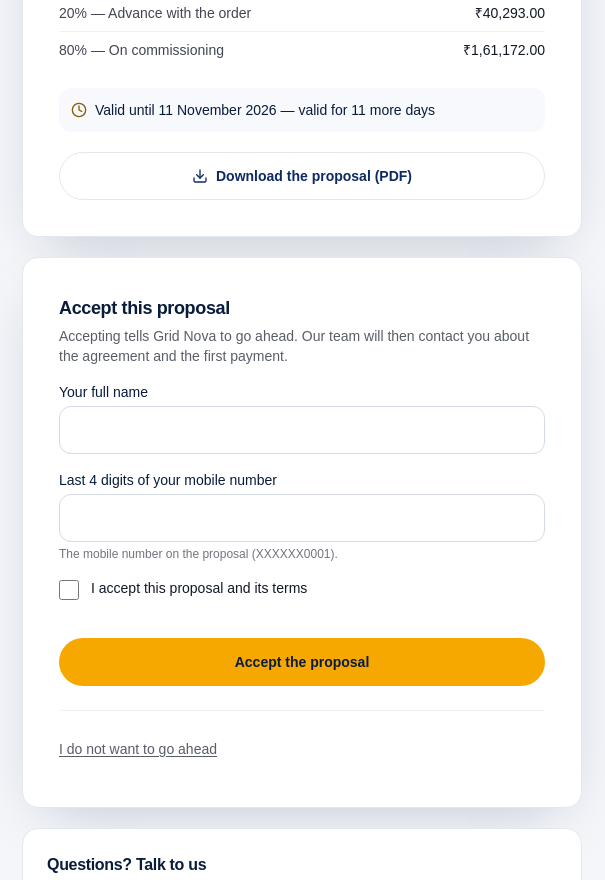
the online proposal page › accepting shows the accepted state with its time
The image size is (605, 880).
(page scrolled)
In the field labelled "Your full name": (302, 430) [59, 406, 545, 454], type "Test Kumar Das"
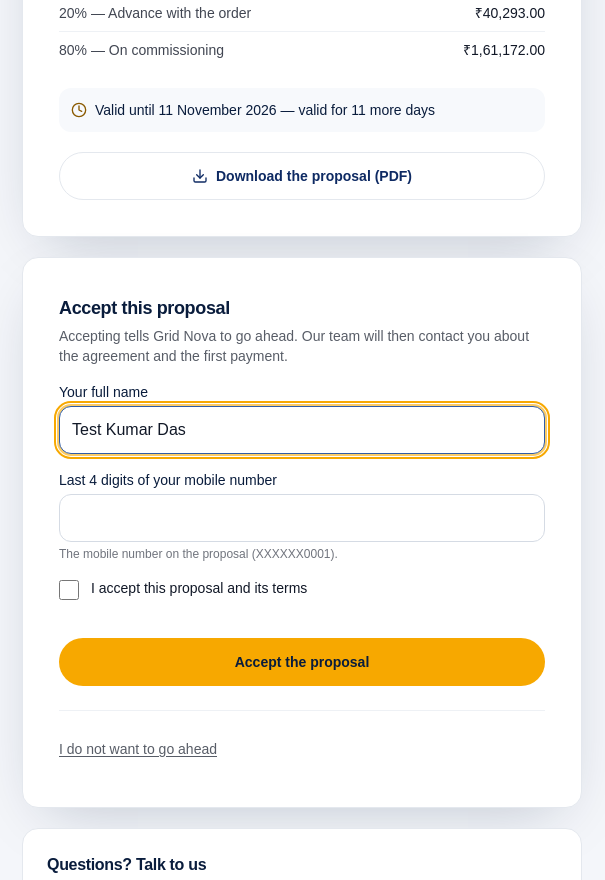
In the field labelled "Last 4 digits of your mobile number": (302, 518) [59, 494, 545, 542], type "0001"
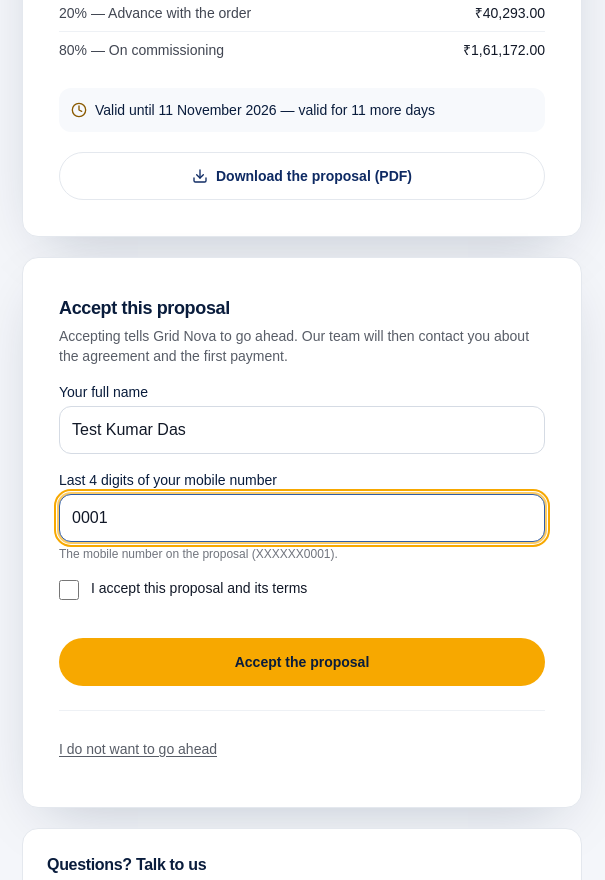
Click the checkbox labelled "I accept this proposal and its terms": (69, 590) [59, 580, 79, 600]
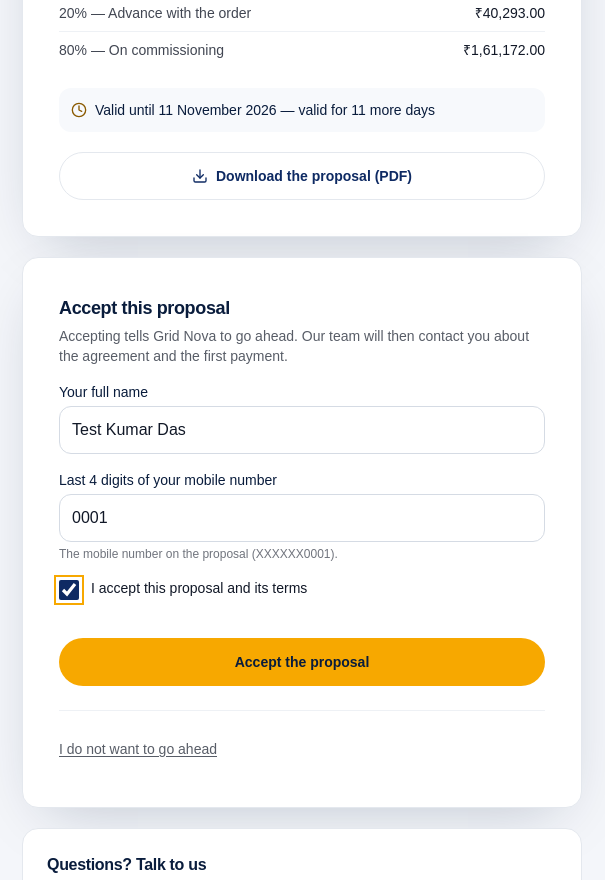
Click the button with test id "accept-submit": (302, 662) [59, 638, 545, 686]
(page scrolled)
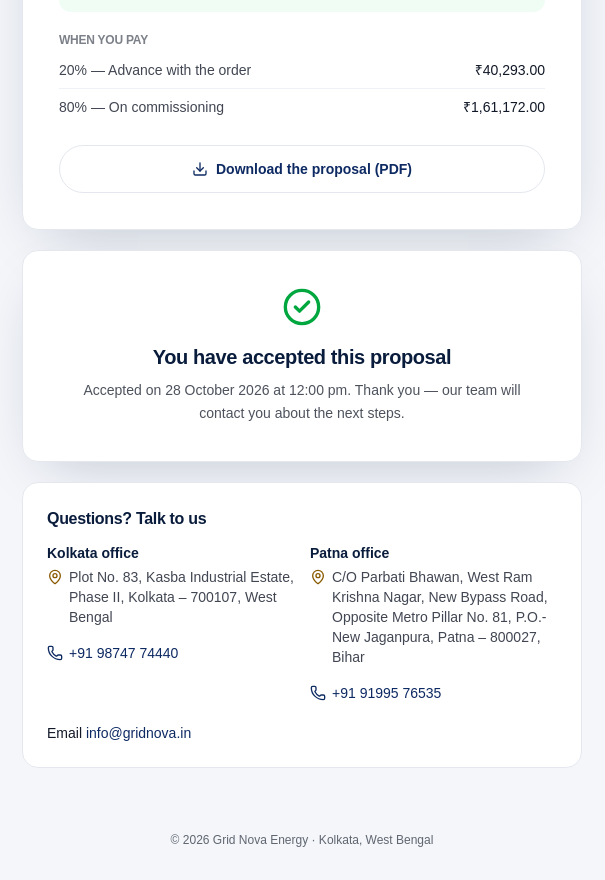
Expected: the element with test id "state-accepted" shows "Accepted on 28 October 2026", [83, 382, 520, 421]
Expected: the form with test id "accept-form" is gone
